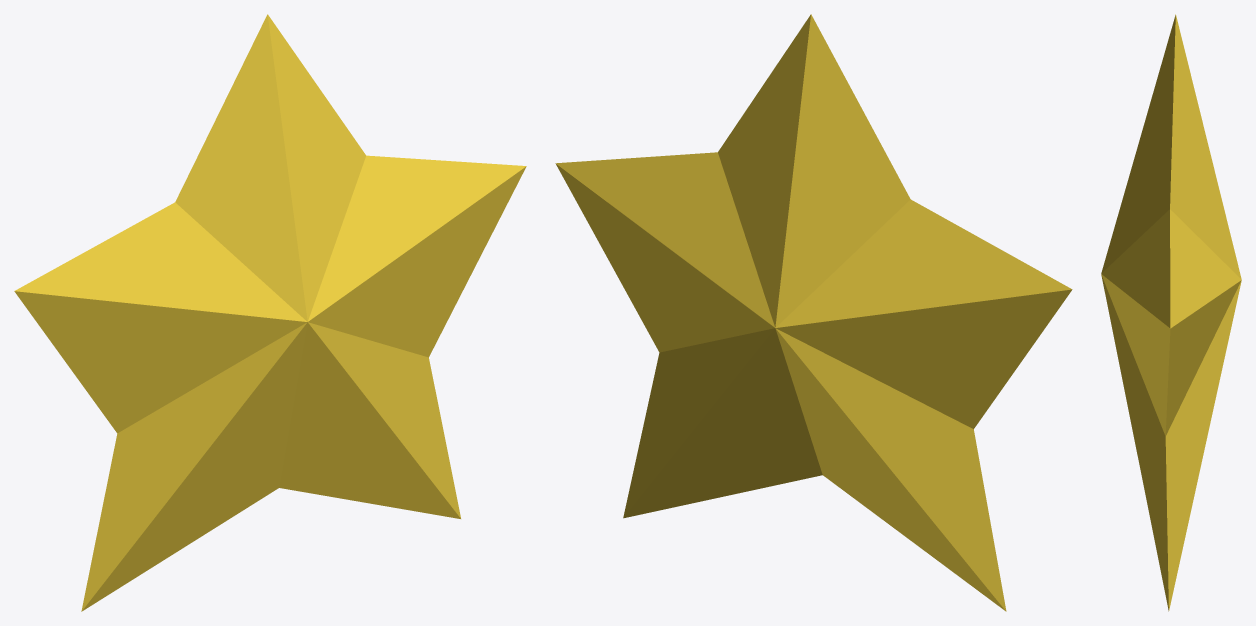
File: star.glb
3 views of the same model, side by side, from view 1: azimuth 30°, elevation 25°; view 2: azimuth 150°, elevation 25°; view 3: azimuth 270°, elevation 25° (orthographic). The views are drawn at different scales.
Parts seen in each view (by area): view 1: star; view 2: star; view 3: star.
Part boxes in pixels (x1,y1,x2,y2): star: [14, 14, 526, 611]; star: [555, 14, 1072, 611]; star: [1101, 14, 1241, 611].
Size of the model in its own units: 1.66 by 1.69 by 0.4223.
